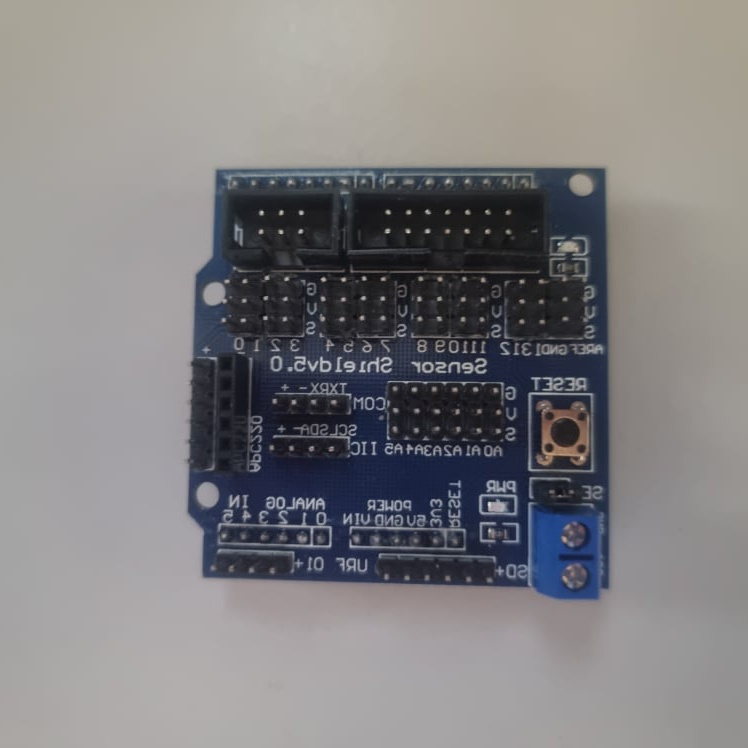5V EXPANSION: (183, 166, 610, 601)
